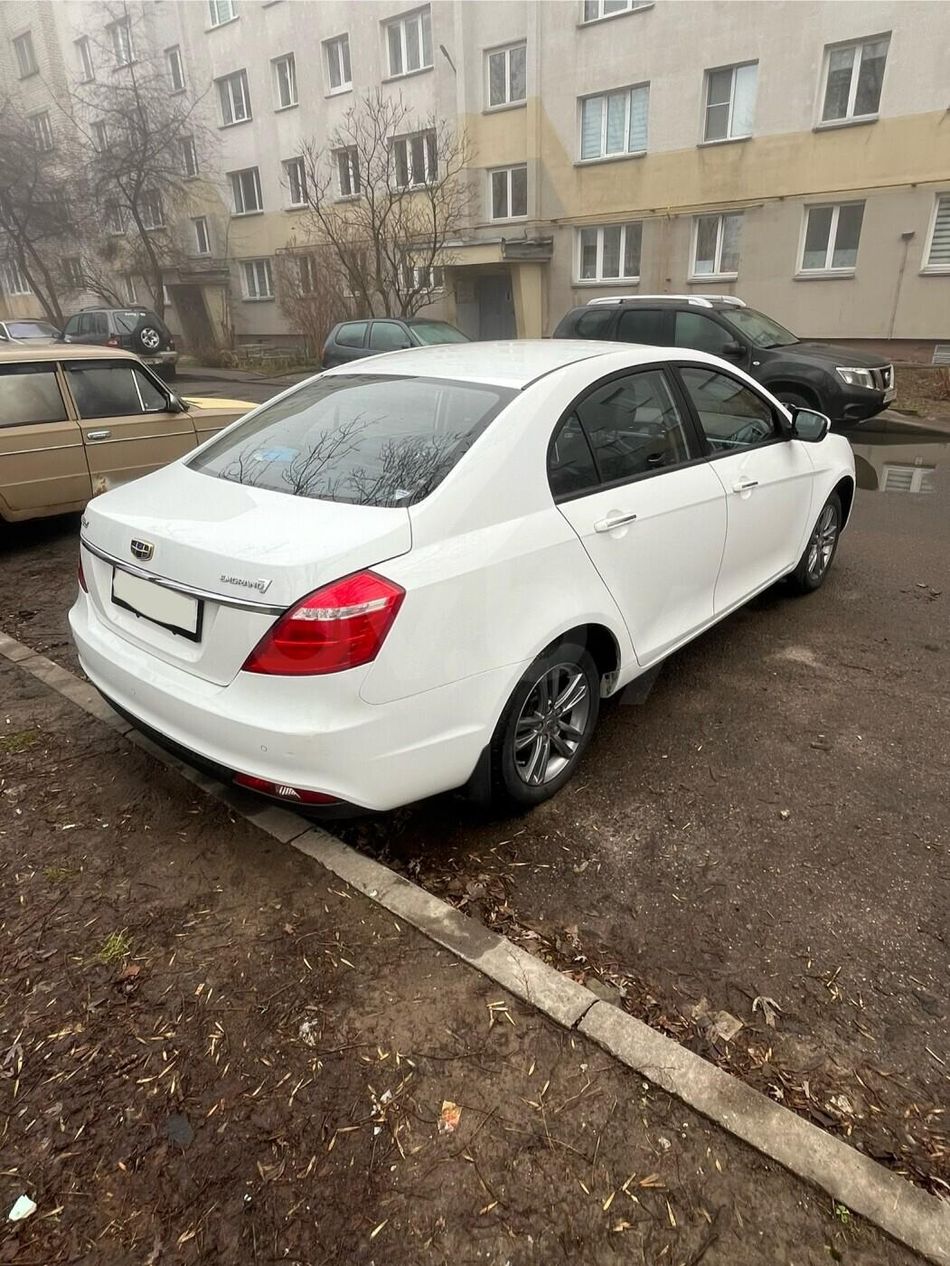Emgrand_2019-2021: (69, 340, 855, 814)
